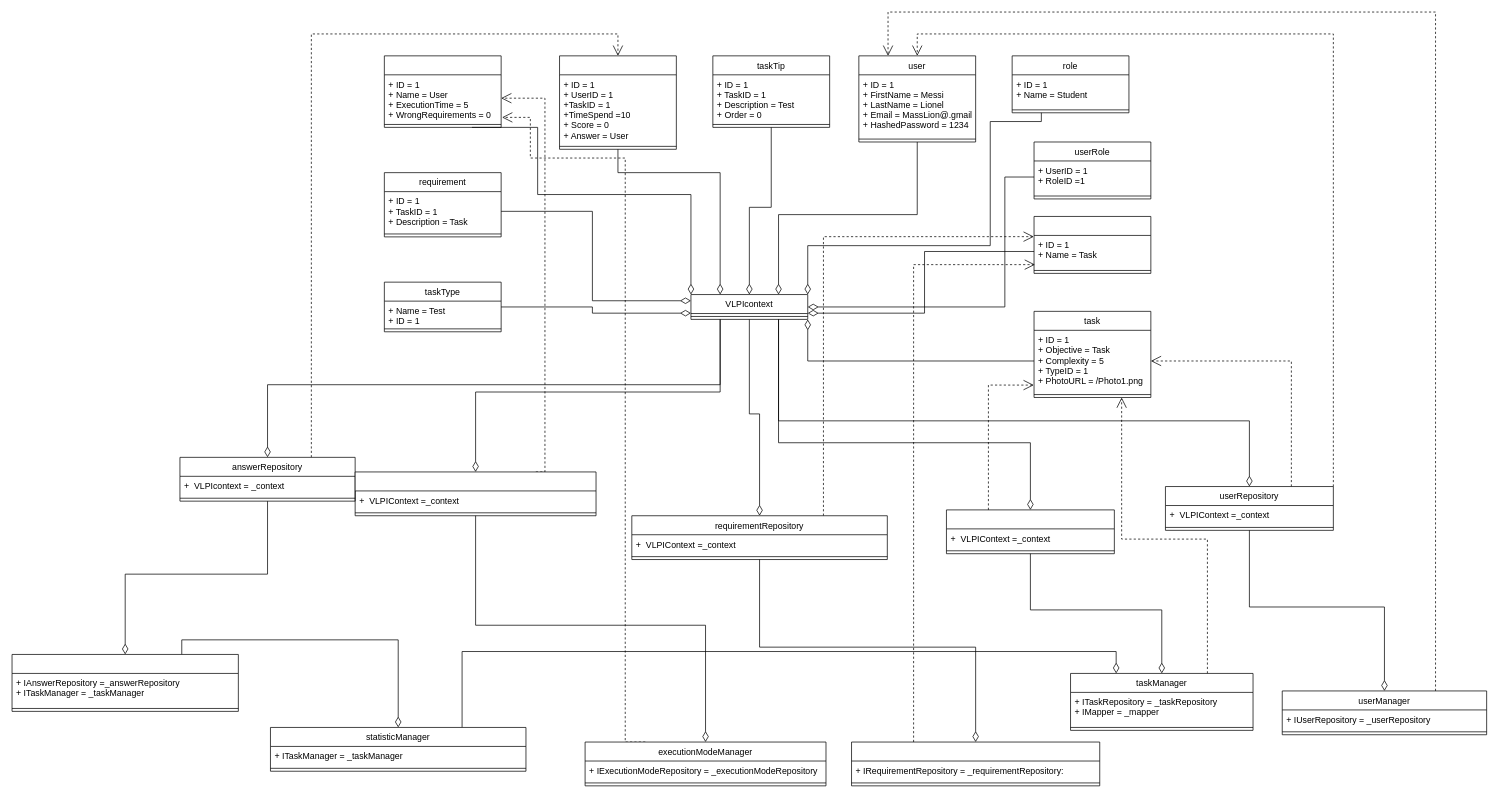
The diagram is 1499 pixels wide and 798 high, and some of its shapes have lost their labels. Each missing label, with the box of its shape:
answerManager: (11, 654, 238, 711)
executionMode: (384, 55, 501, 127)
executionModeRepository: (354, 471, 596, 516)
requirementManager: (851, 741, 1100, 786)
requirementType: (1033, 216, 1151, 273)
taskRepository: (946, 509, 1114, 554)
userAnswer: (559, 55, 676, 149)
